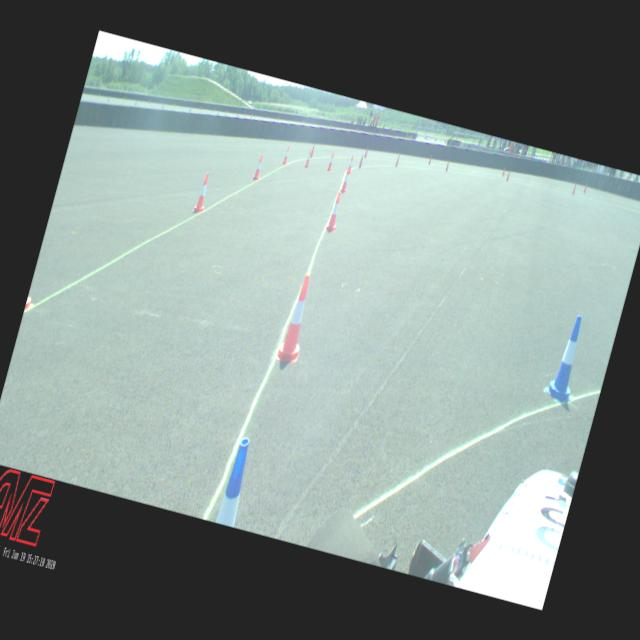blue_cone: (542, 311, 594, 406), (216, 434, 256, 527)
orange_cone: (274, 272, 318, 364), (192, 171, 212, 214), (324, 190, 344, 232), (340, 166, 352, 192), (252, 154, 264, 180), (303, 148, 313, 168), (326, 151, 336, 171), (282, 144, 290, 164), (346, 154, 354, 174)
